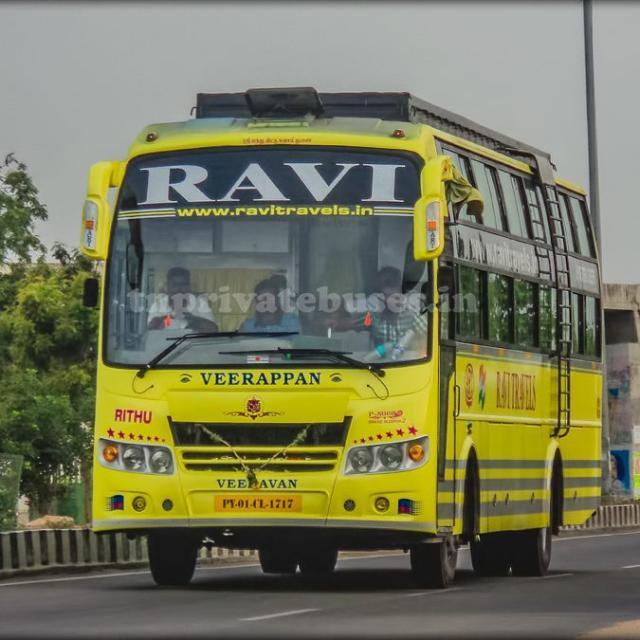Bus: (78, 83, 600, 588)
